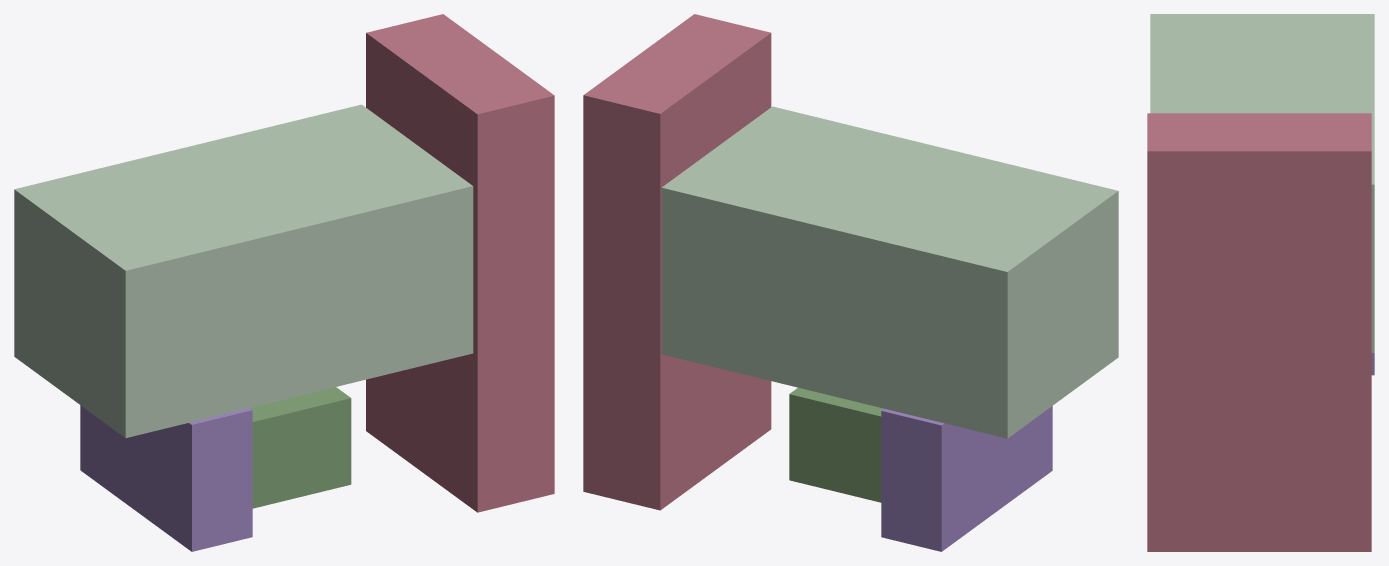
3 views of the same model, side by side, from view 1: azimuth 30°, elevation 25°; view 2: azimuth 150°, elevation 25°; view 3: azimuth 270°, elevation 25° (orthographic).
Visible parts, largest first — view 1: world; view 2: world; view 3: world.
Boxes of the visible parts, x1=… form: world: x1=14, y1=14, x2=554, y2=551; world: x1=583, y1=14, x2=1118, y2=551; world: x1=1147, y1=14, x2=1374, y2=551.
Bounding box in the file's own units: 7.75 × 6.9 × 3.55.
